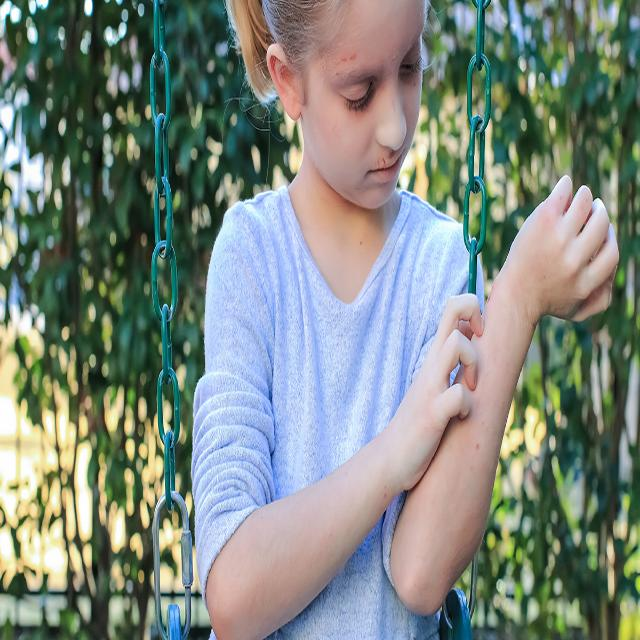hives: (413, 275, 521, 609)
